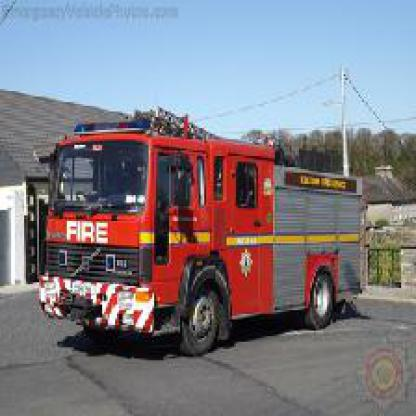emergency: (35, 115, 403, 368)
